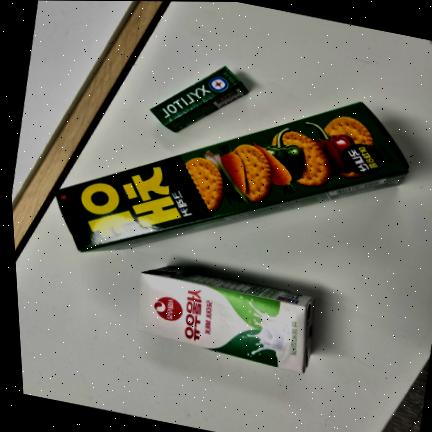cracker_vege: (56, 103, 408, 251)
gum_green: (151, 67, 248, 132)
milk_green: (138, 267, 314, 373)
